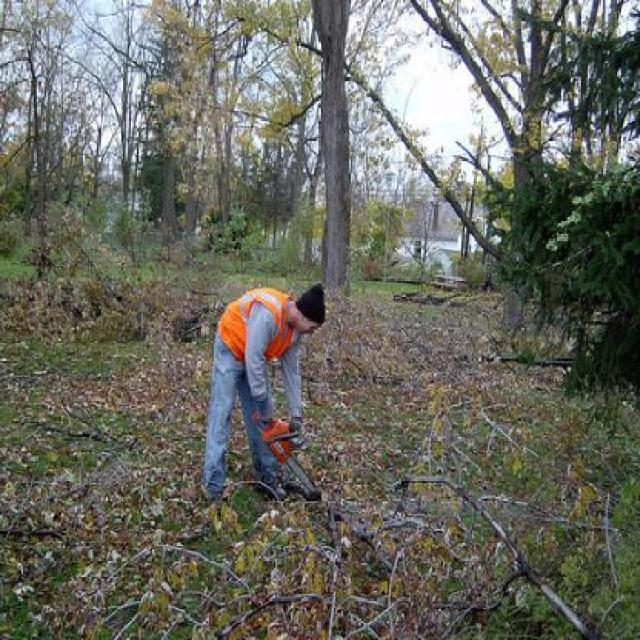Chainsaw: (248, 401, 322, 507)
